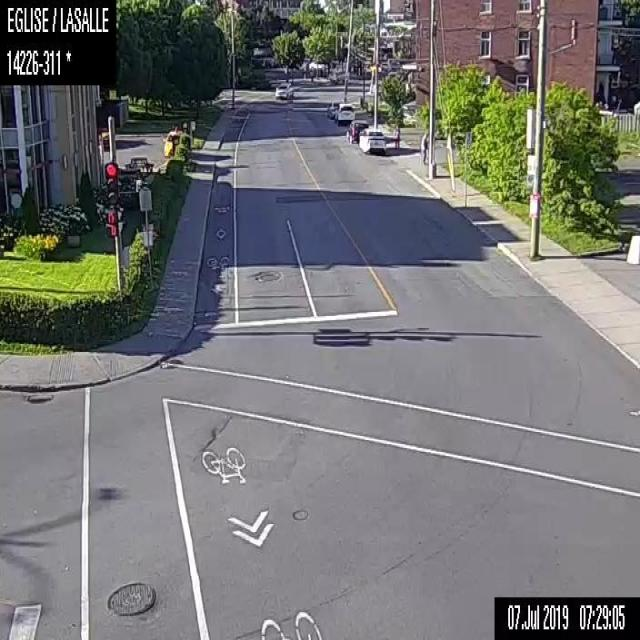pedestrian: (420, 130, 427, 162), (393, 123, 401, 148)
vehicle: (358, 128, 386, 154), (162, 124, 183, 157), (347, 118, 370, 145), (334, 101, 356, 123), (274, 80, 292, 99), (326, 100, 338, 116)
